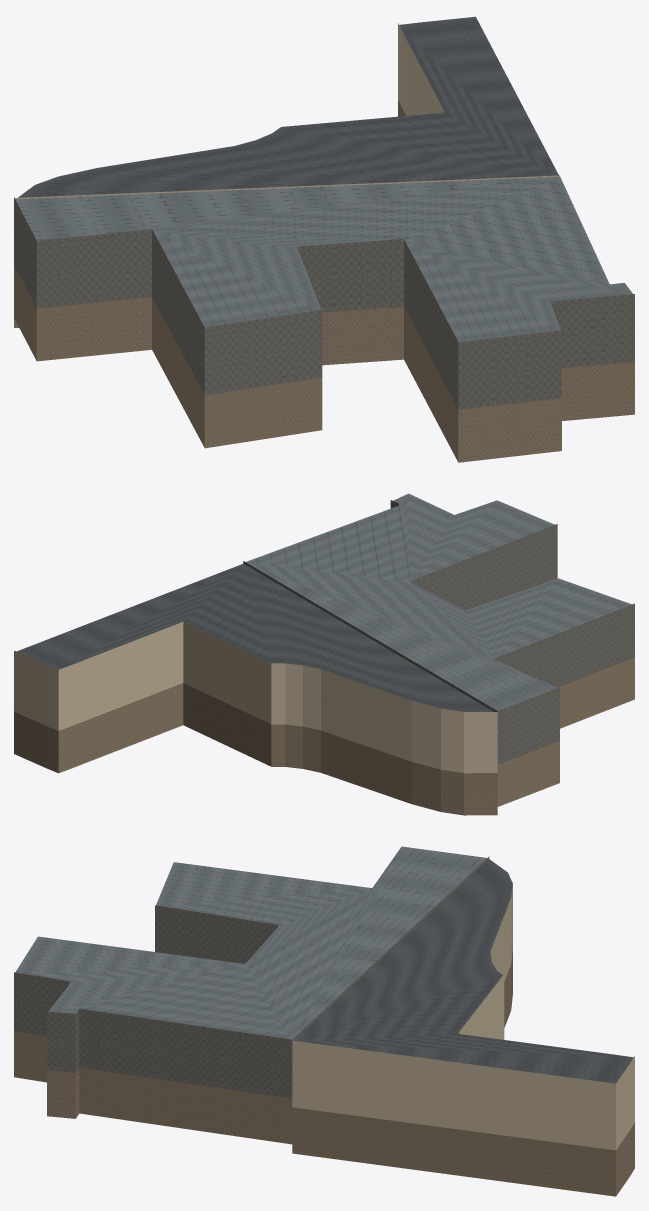
Rendered from bld_c8_39_511.gltf.
The picture shows the model from 3 angles, top to bottom: view 1: azimuth 30°, elevation 25°; view 2: azimuth 150°, elevation 25°; view 3: azimuth 270°, elevation 25°; orthographic projection. The views are drawn at different scales.
Visible parts, largest first — view 1: bld_c8_39_511; view 2: bld_c8_39_511; view 3: bld_c8_39_511.
Boxes of the visible parts, x1,y1,x2,y2 form: bld_c8_39_511: (14, 16, 634, 462); bld_c8_39_511: (14, 493, 634, 815); bld_c8_39_511: (14, 846, 634, 1196).
Bounding box in the file's own units: 56.48 × 12.58 × 62.15.
Materials: 7 (7 with a texture image).
